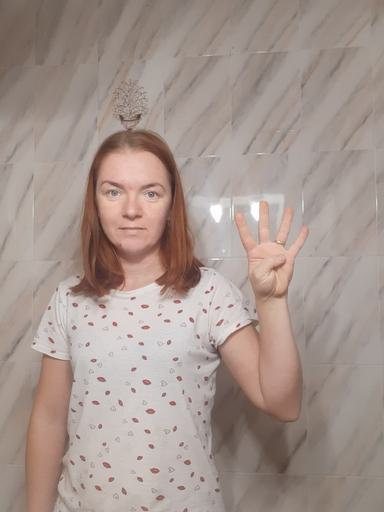four: (232, 197, 312, 300)
